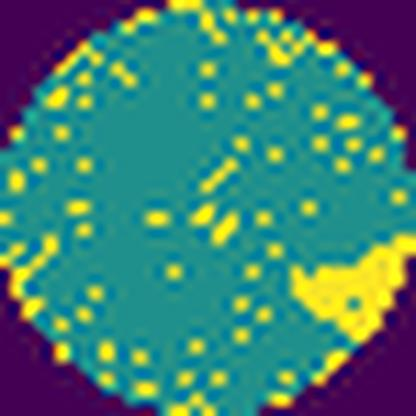Edge-Loc: (292, 226, 415, 342)
